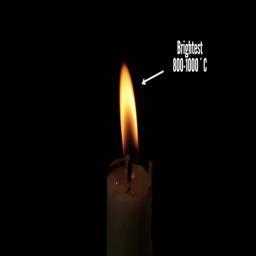fire: (118, 66, 139, 149)
